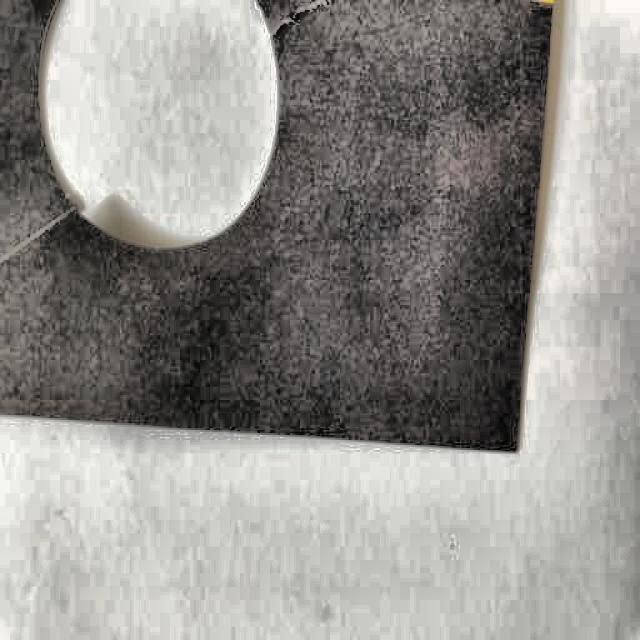paper: (0, 1, 551, 469)
